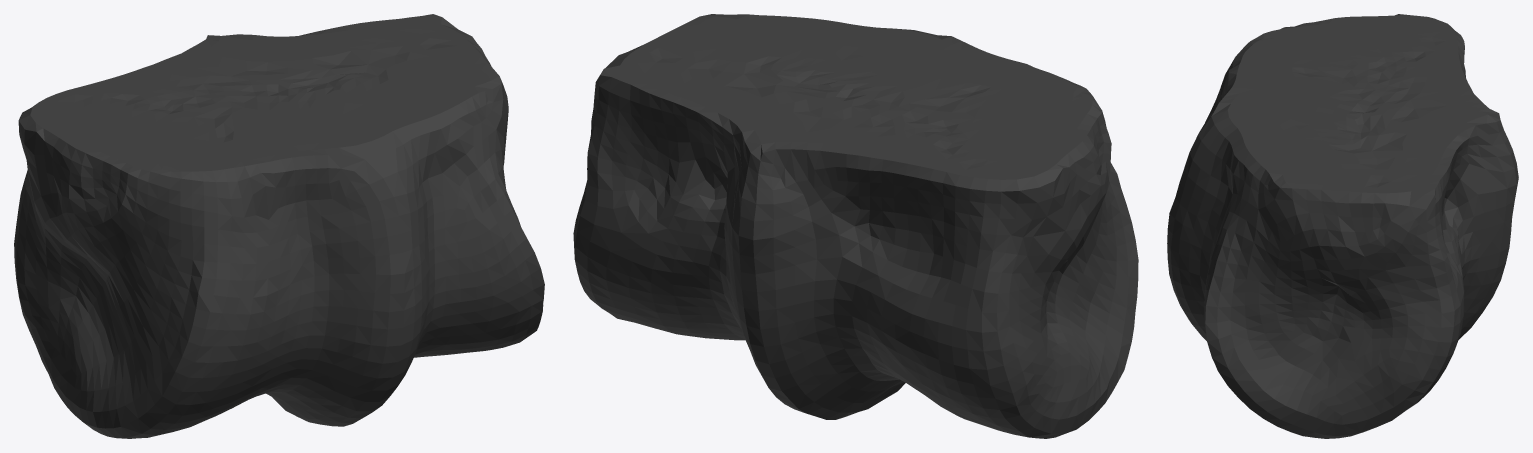
Rendered from metacarpus_III.glb.
3 views of the same model, side by side, from view 1: azimuth 30°, elevation 25°; view 2: azimuth 150°, elevation 25°; view 3: azimuth 270°, elevation 25° (orthographic). The views are drawn at different scales.
Visible parts, largest first — view 1: metacarpus_III; view 2: metacarpus_III; view 3: metacarpus_III.
Boxes of the visible parts, left/top/right/bottom form: metacarpus_III: left=14, top=14, right=544, bottom=438; metacarpus_III: left=573, top=14, right=1138, bottom=438; metacarpus_III: left=1167, top=14, right=1518, bottom=438.
Bounding box in the file's own units: 2.04 × 1.35 × 1.55.
Materials: 1 (1 with a texture image).
